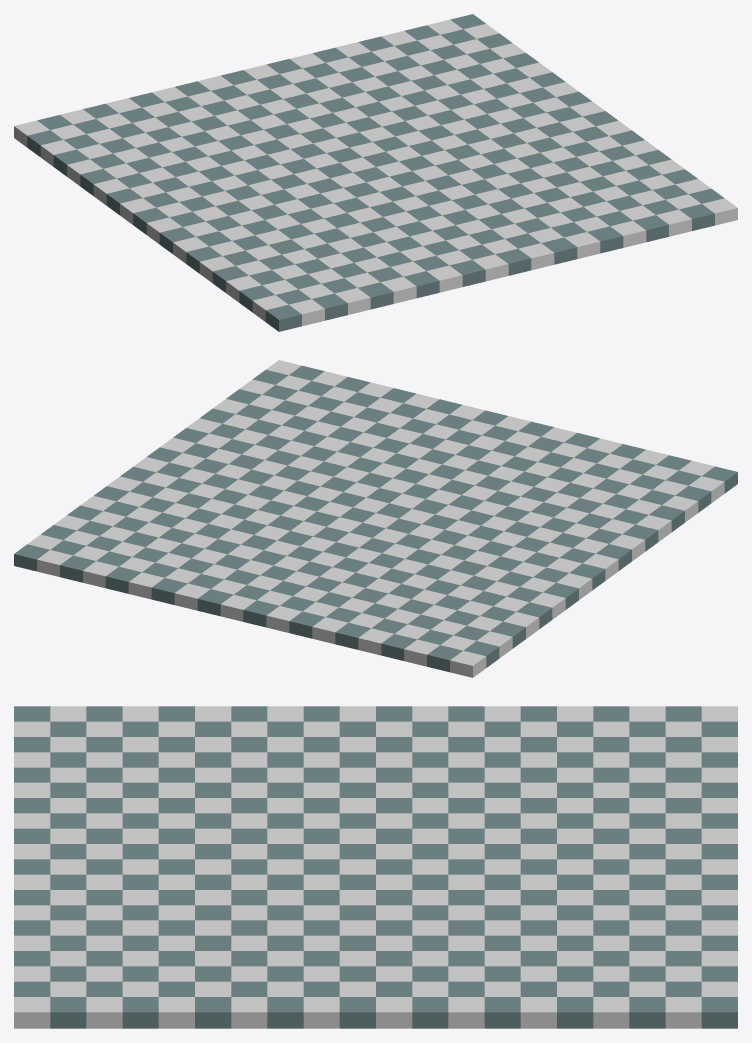
File: suelo_cocina.obj
3 views of the same model, one above another, from view 1: azimuth 30°, elevation 25°; view 2: azimuth 150°, elevation 25°; view 3: azimuth 270°, elevation 25° (orthographic). The views are drawn at different scales.
Size of the model in its own units: 4 by 0.1 by 4.
Materials: 1 (1 with a texture image).
